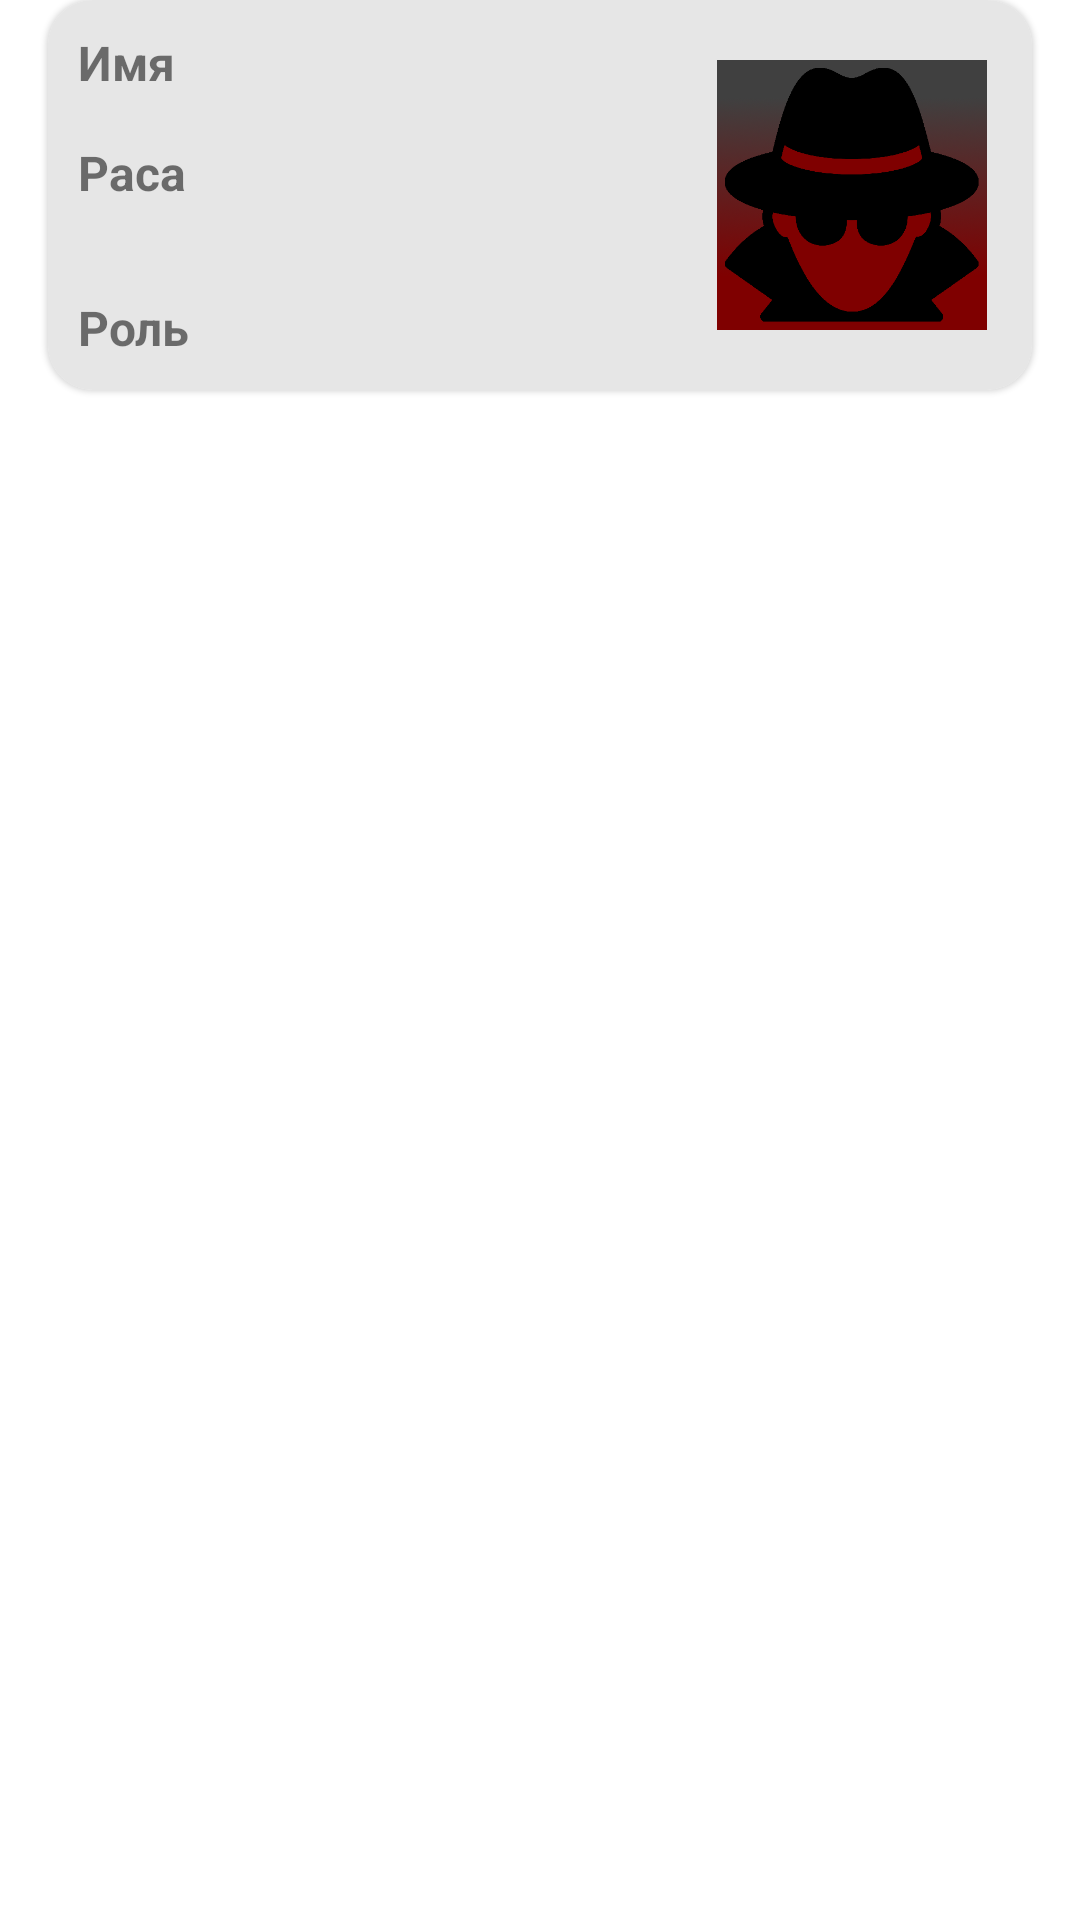

Icons on this 1080px x 1920px Android screen, each with the point to tap as [x,y]:
character: [852,195]
